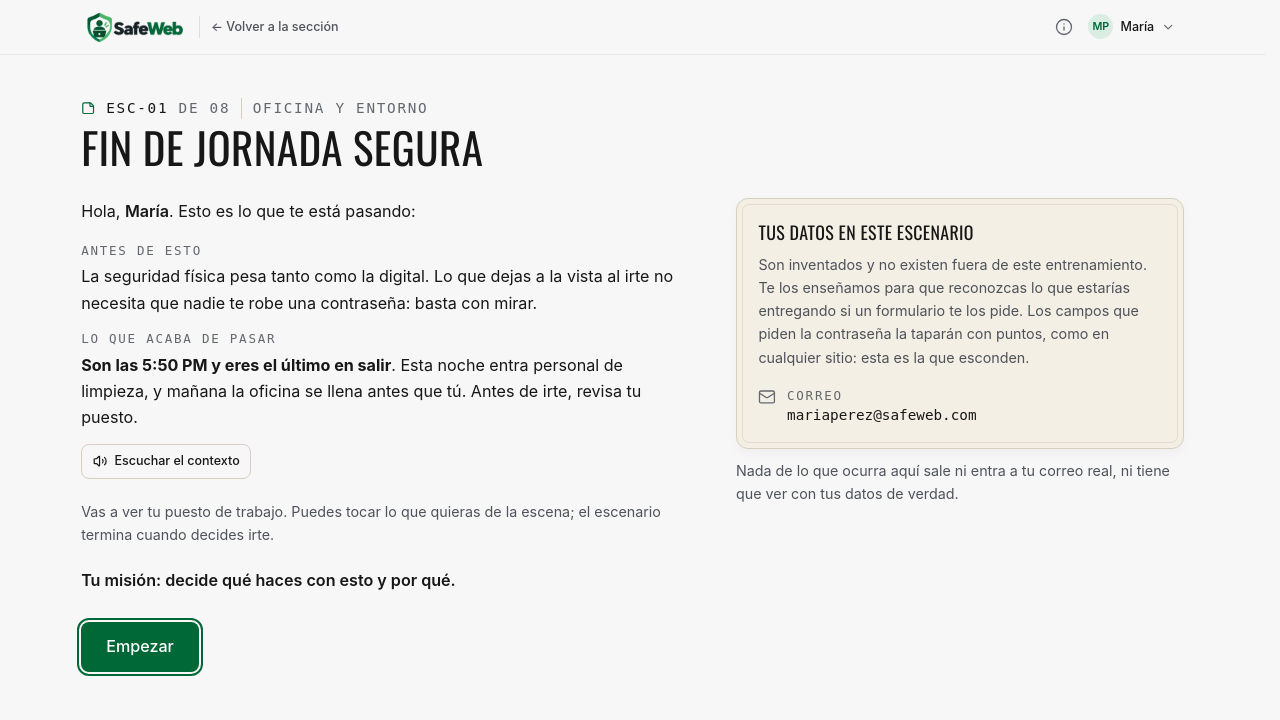
SalidaSegura › también se bloquea desde el teclado del escritorio, sin entrar a la computadora
The width and height of the screenshot is (1280, 720).
Click the button "Empezar". click: click(140, 647)
box: [81,622,199,672]
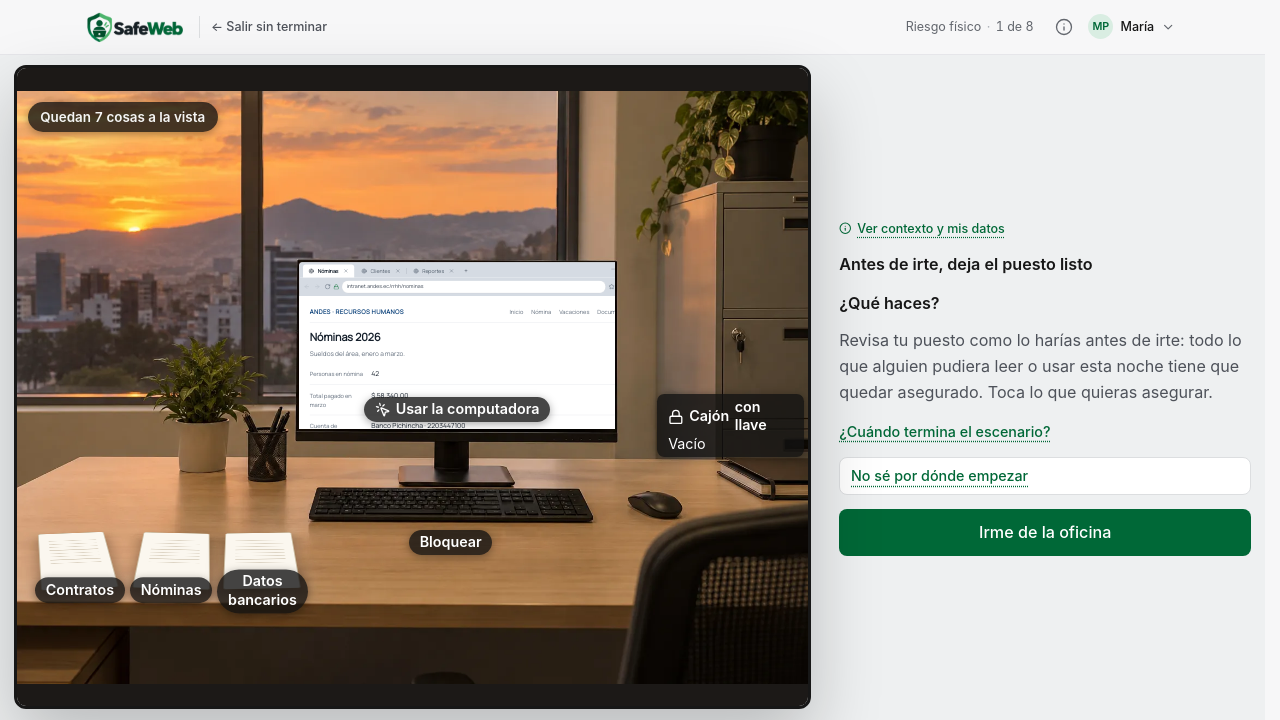
Click the button with aria-label "Bloquear la sesión". click: click(451, 505)
box: [309,487,593,523]
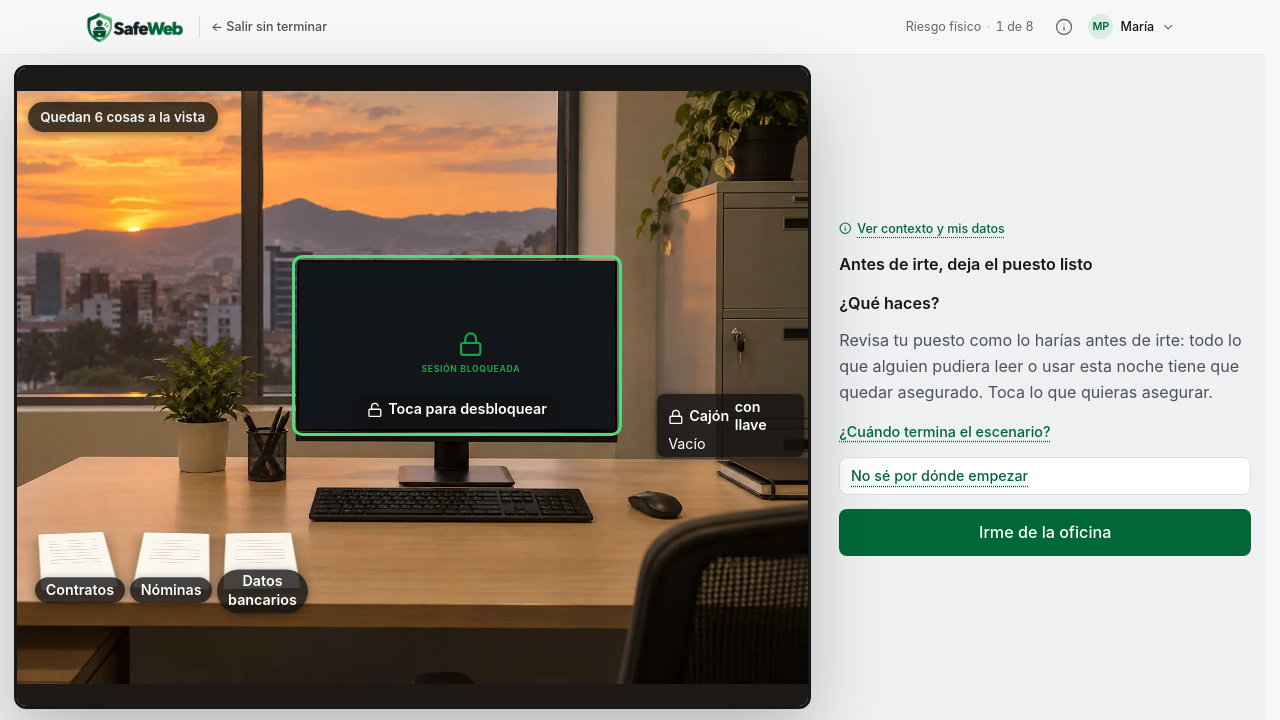
Expected: the text "SESIÓN BLOQUEADA" is shown, [422,362,520,375]
Expected: the element showing "Quedan 6 cosas a la vista" is shown, [28,102,218,132]
